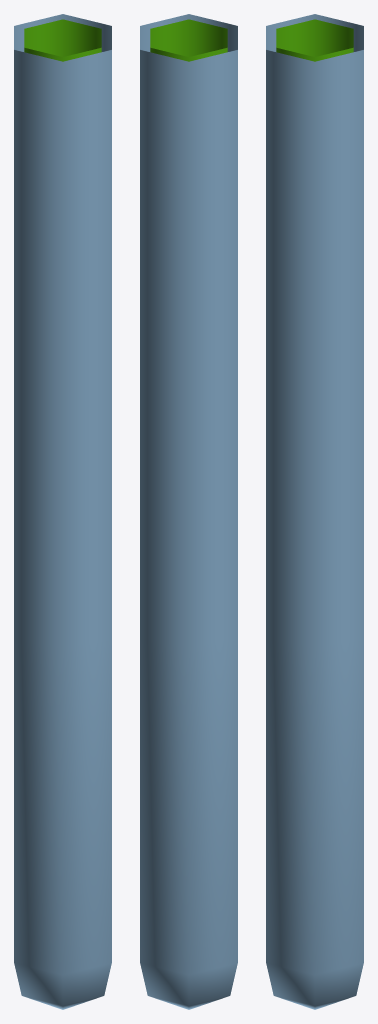
3 views of the same model, side by side, from view 1: azimuth 30°, elevation 25°; view 2: azimuth 210°, elevation 25°; view 3: azimuth 330°, elevation 25° (orthographic).
Parts seen in each view (by area): view 1: Test_Tube; view 2: Test_Tube; view 3: Test_Tube.
Part boxes in pixels (bbox=[...]): Test_Tube: bbox=[14, 14, 111, 1009]; Test_Tube: bbox=[140, 14, 237, 1009]; Test_Tube: bbox=[266, 14, 363, 1009].
Bounding box in the file's own units: 2.81 × 2.43 × 26.69.
